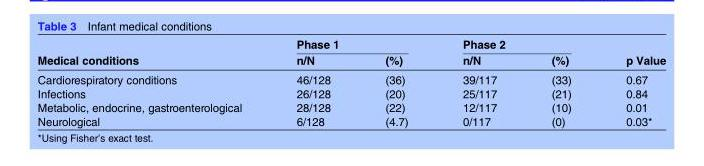table: (36, 36, 665, 127)
table column: (36, 36, 268, 127), (268, 36, 357, 127), (434, 36, 523, 127), (357, 36, 434, 127), (523, 36, 597, 127), (597, 36, 665, 127)
table column header: (36, 36, 665, 69)
table row: (36, 51, 665, 69), (36, 69, 665, 86), (36, 36, 665, 51), (36, 86, 665, 100), (36, 113, 665, 127), (36, 100, 665, 113)
table spanning cell: (36, 36, 268, 69), (268, 36, 434, 51), (434, 36, 597, 51), (597, 36, 665, 69)
